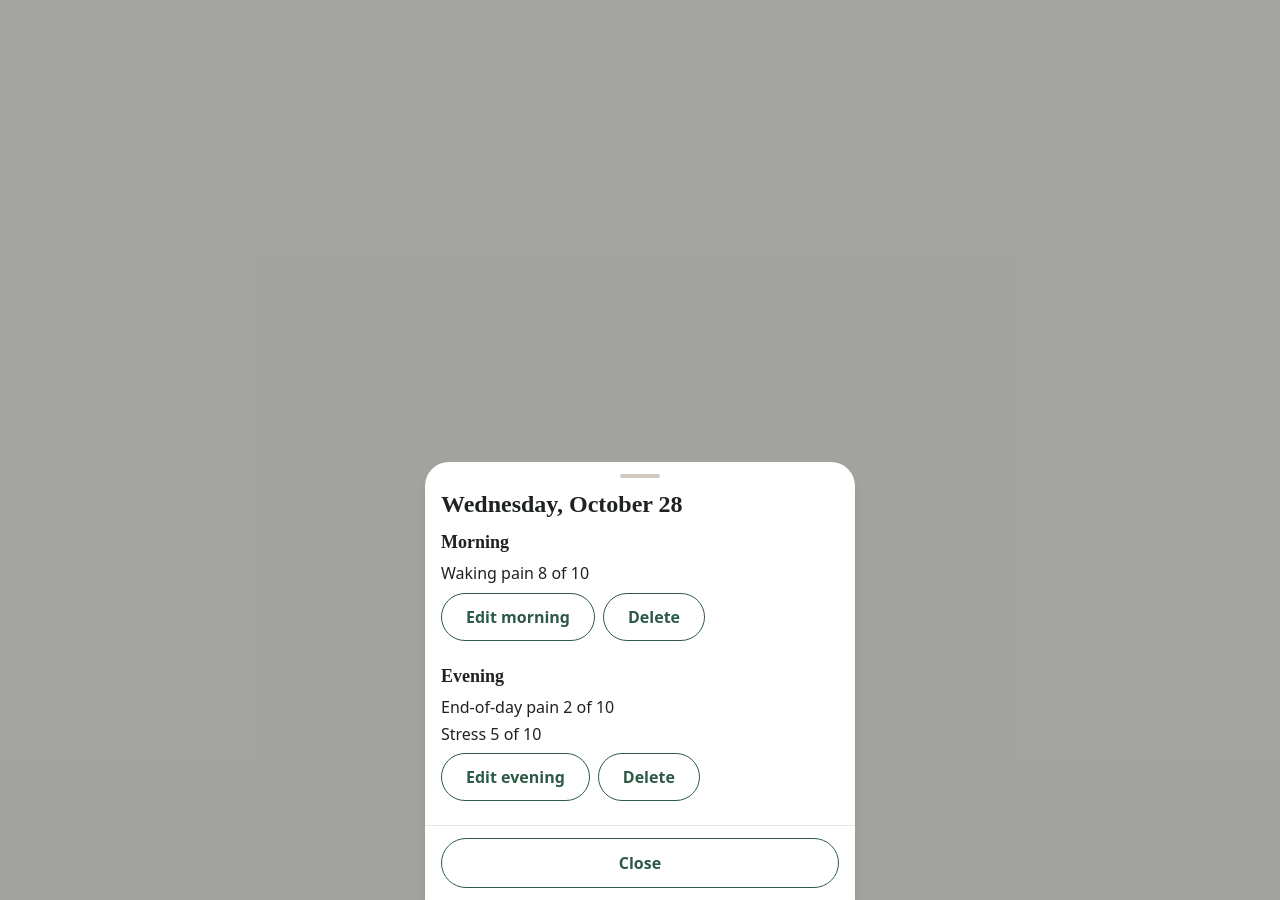
Test: DayDetailSheet › shows an error and keeps the confirmation open when delete fails
The width and height of the screenshot is (1280, 900).
Click the button with aria-label "Delete evening entry" at (649, 777), box x1=598 y1=753 x2=700 y2=801
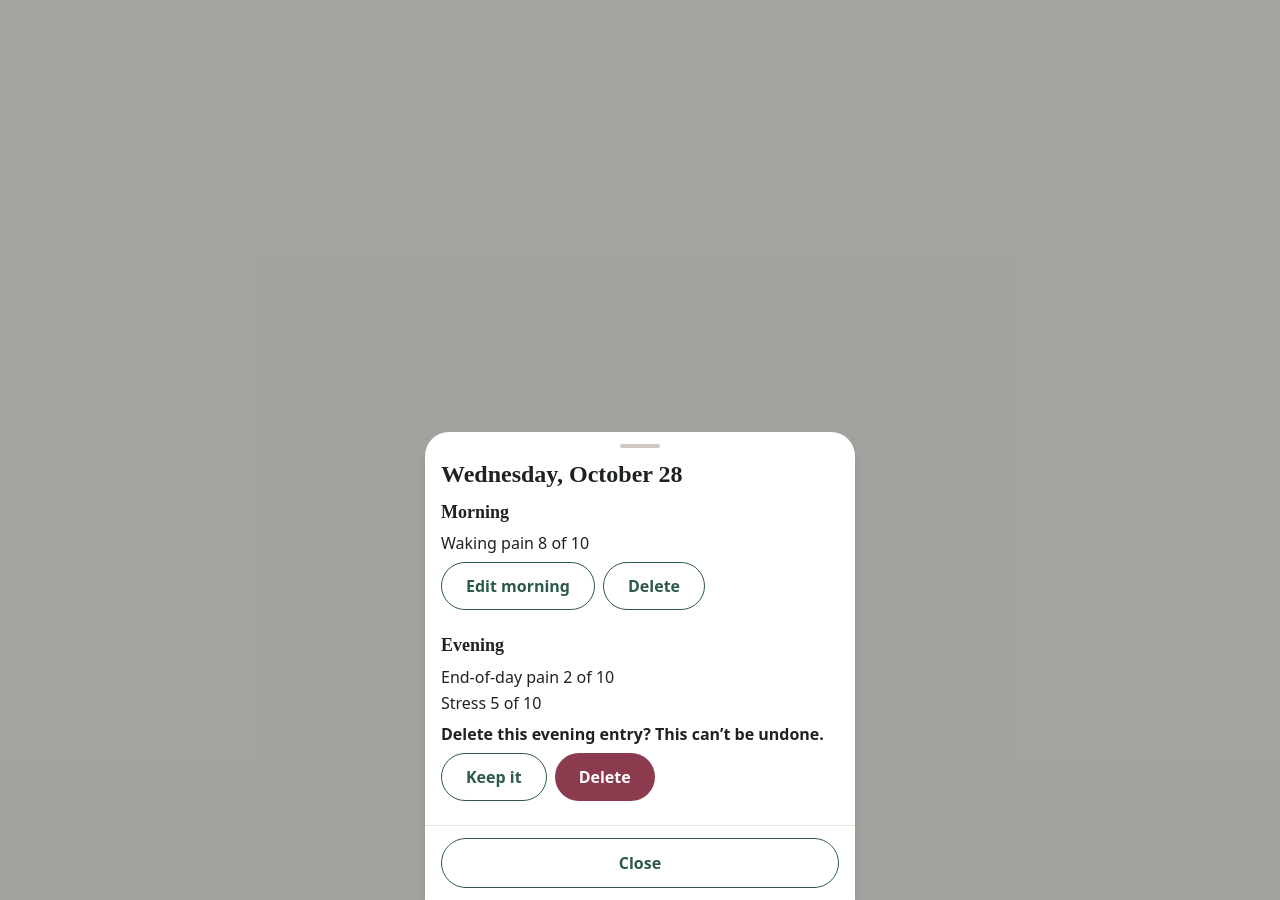
Click the button "Delete" below "Delete this" at (605, 777), box x1=555 y1=753 x2=655 y2=801
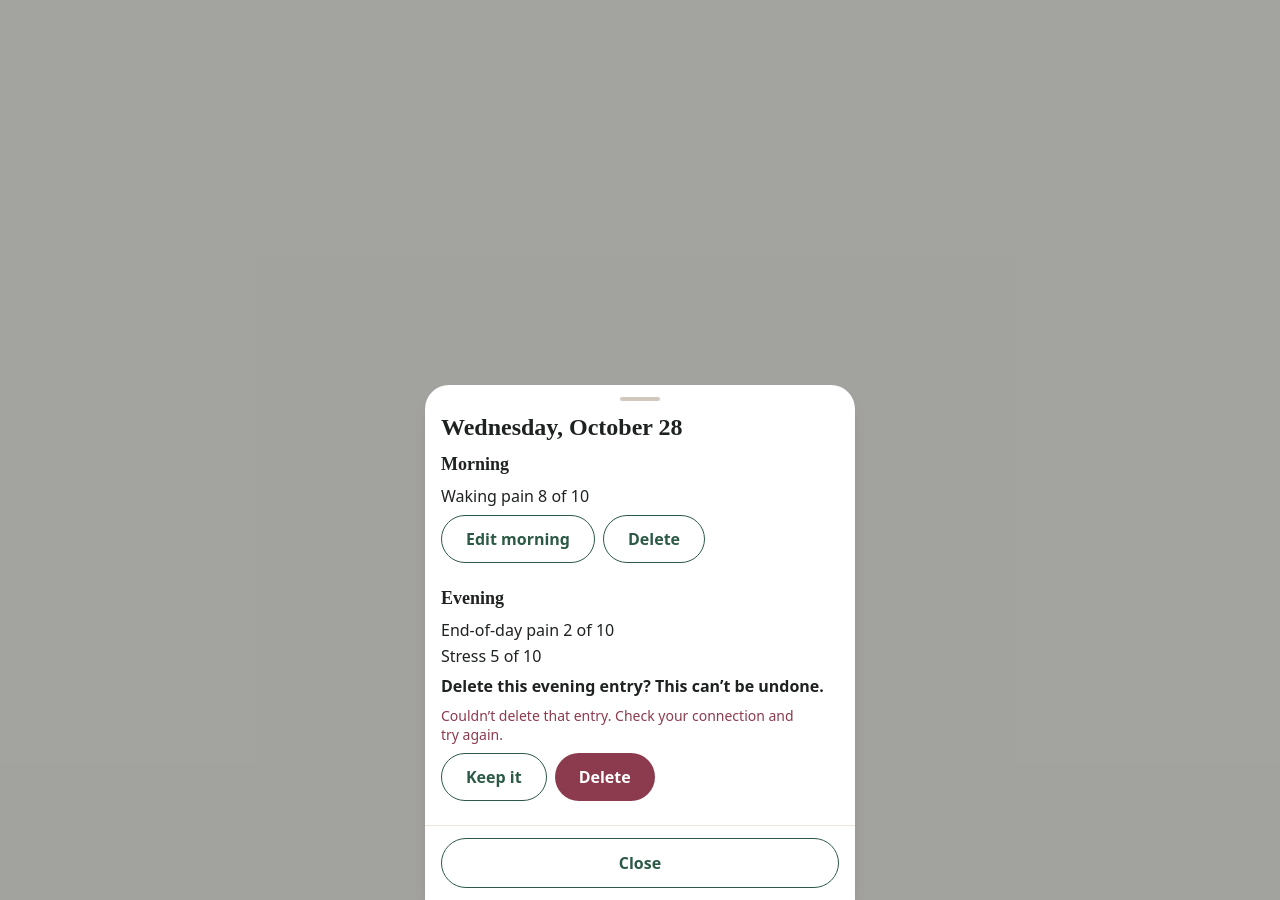
Result: the message shows "Couldn’t delete" at x1=441 y1=706 x2=794 y2=744
